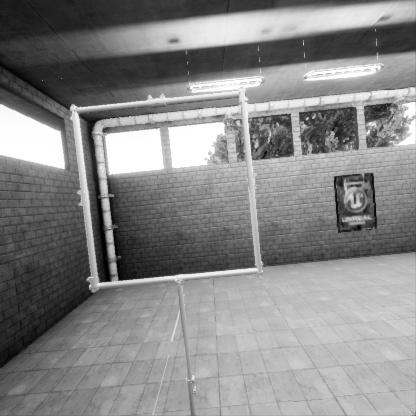gate: (69, 130, 276, 338)
